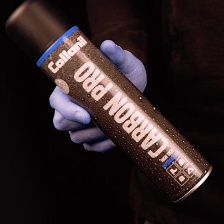aerosol_cans: (0, 0, 215, 209)
